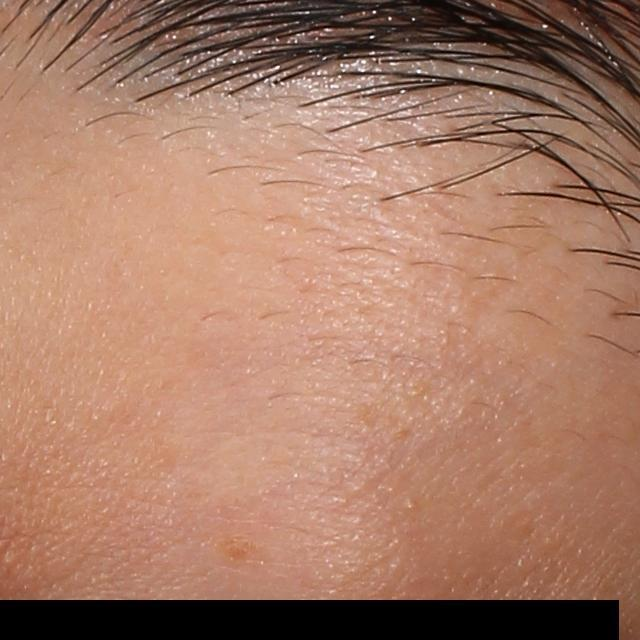melasma: (209, 534, 274, 569)
